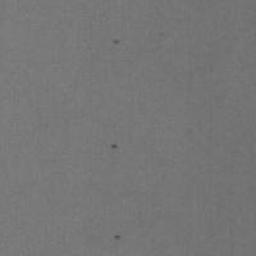Inclusion: (110, 141, 119, 150), (113, 38, 120, 45), (114, 233, 122, 239)
